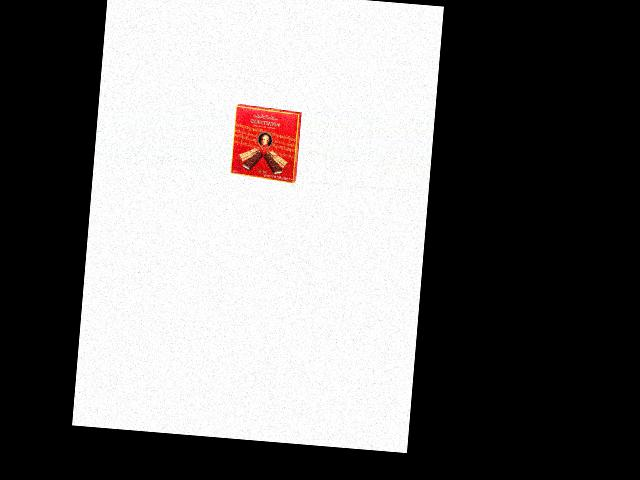chocolate: (228, 105, 302, 185)
